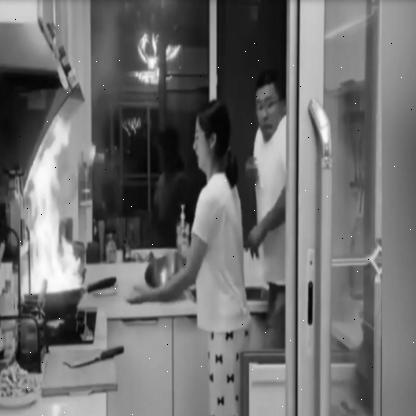fire: (14, 141, 85, 299)
